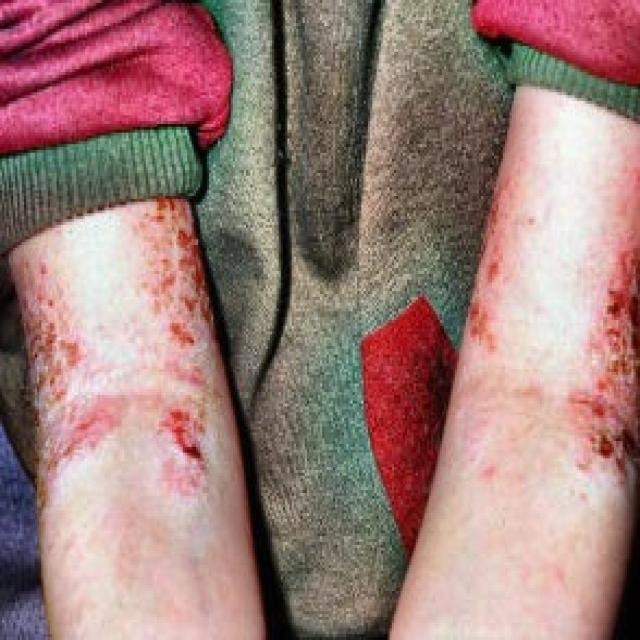Eczema: (13, 204, 261, 634), (421, 294, 636, 632)
